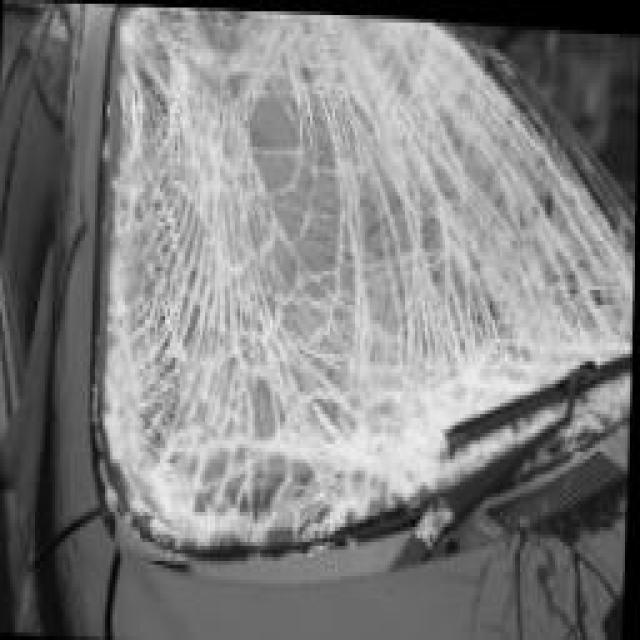Windshield: (98, 4, 640, 565)
